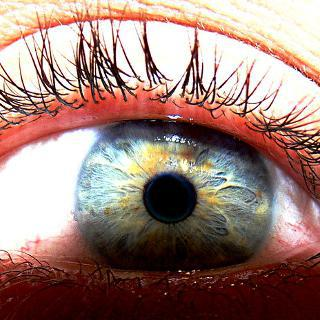pupil: (143, 172, 195, 224)
